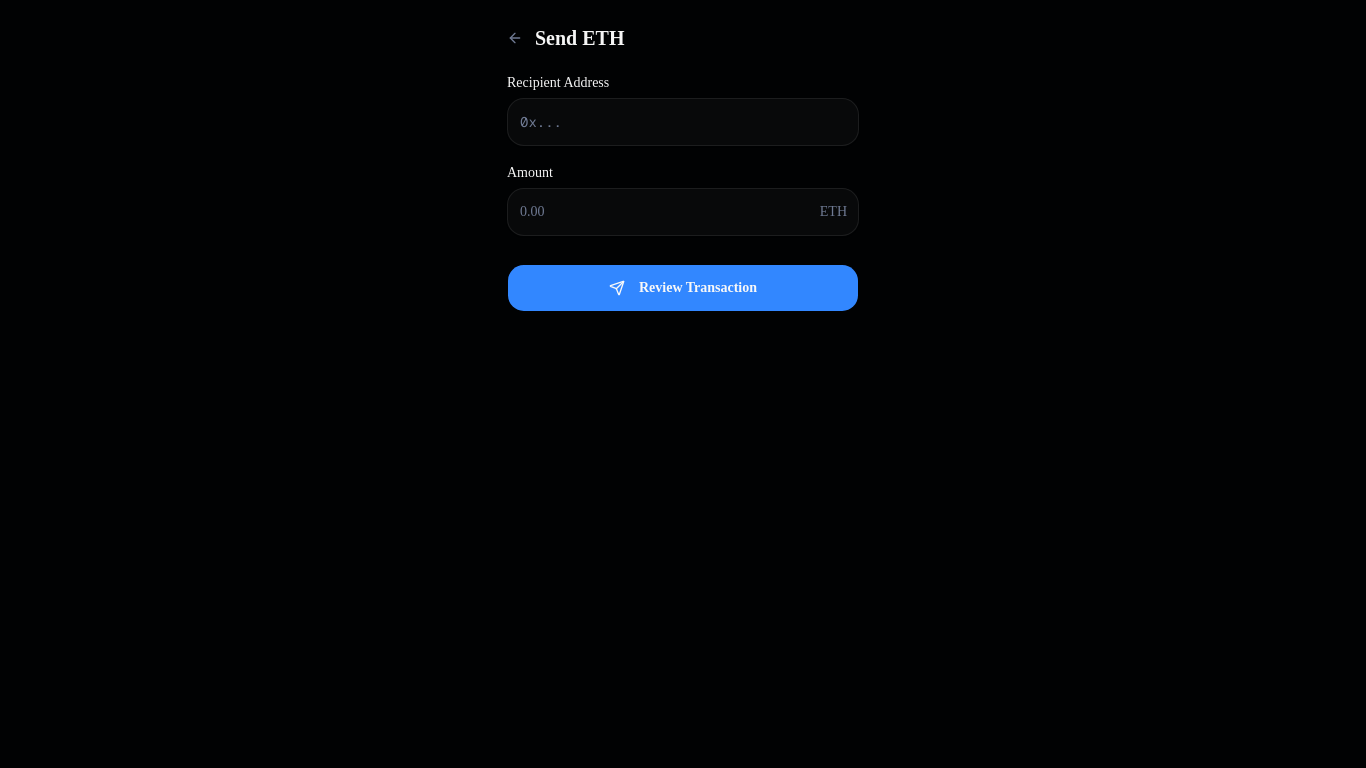
it: SendPage › opens confirm dialog with valid inputs
Type "0x70997970C51812dc3A010C7d01b50e0d17dc79C8" into the field with placeholder "0x...". click: (683,122)
box: [507,98,859,146]
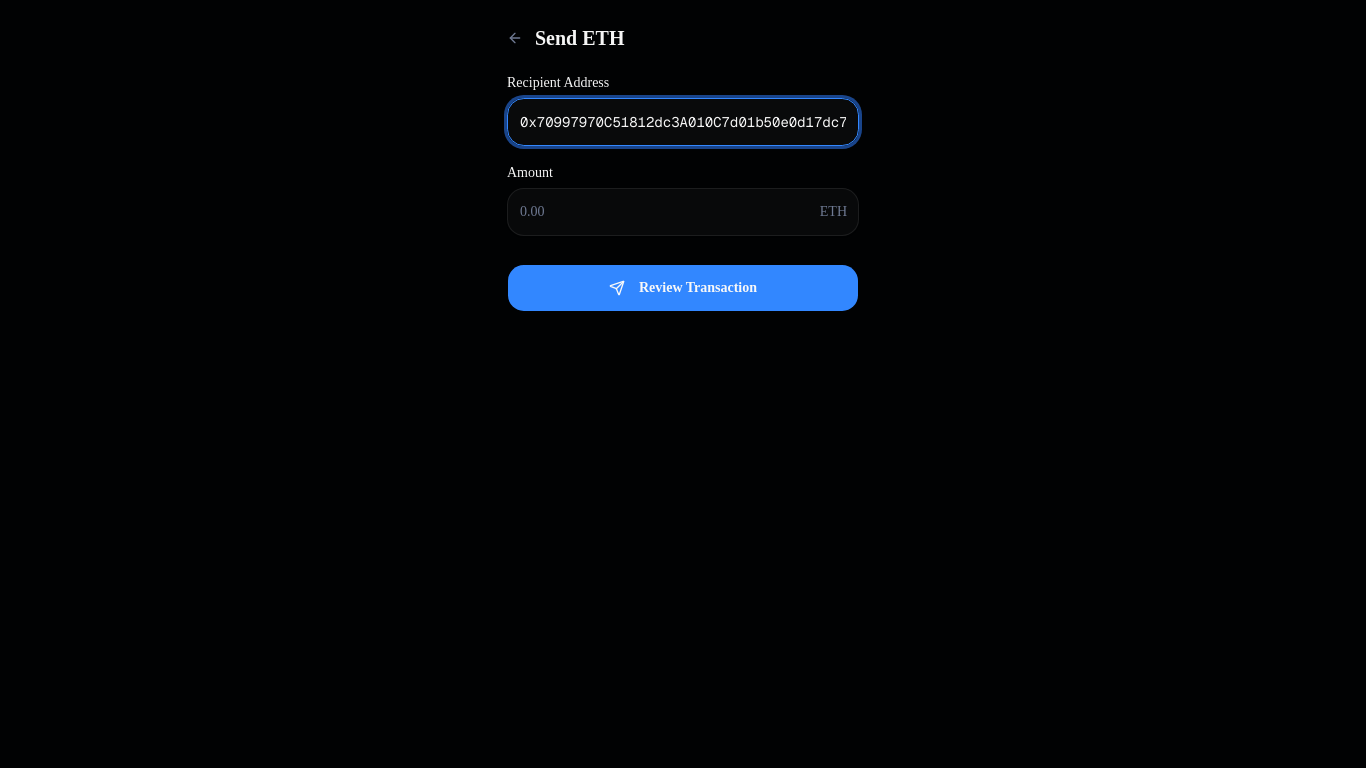
Type "0.01" into the number field with placeholder "0.00". click: (683,212)
box: [507,188,859,236]
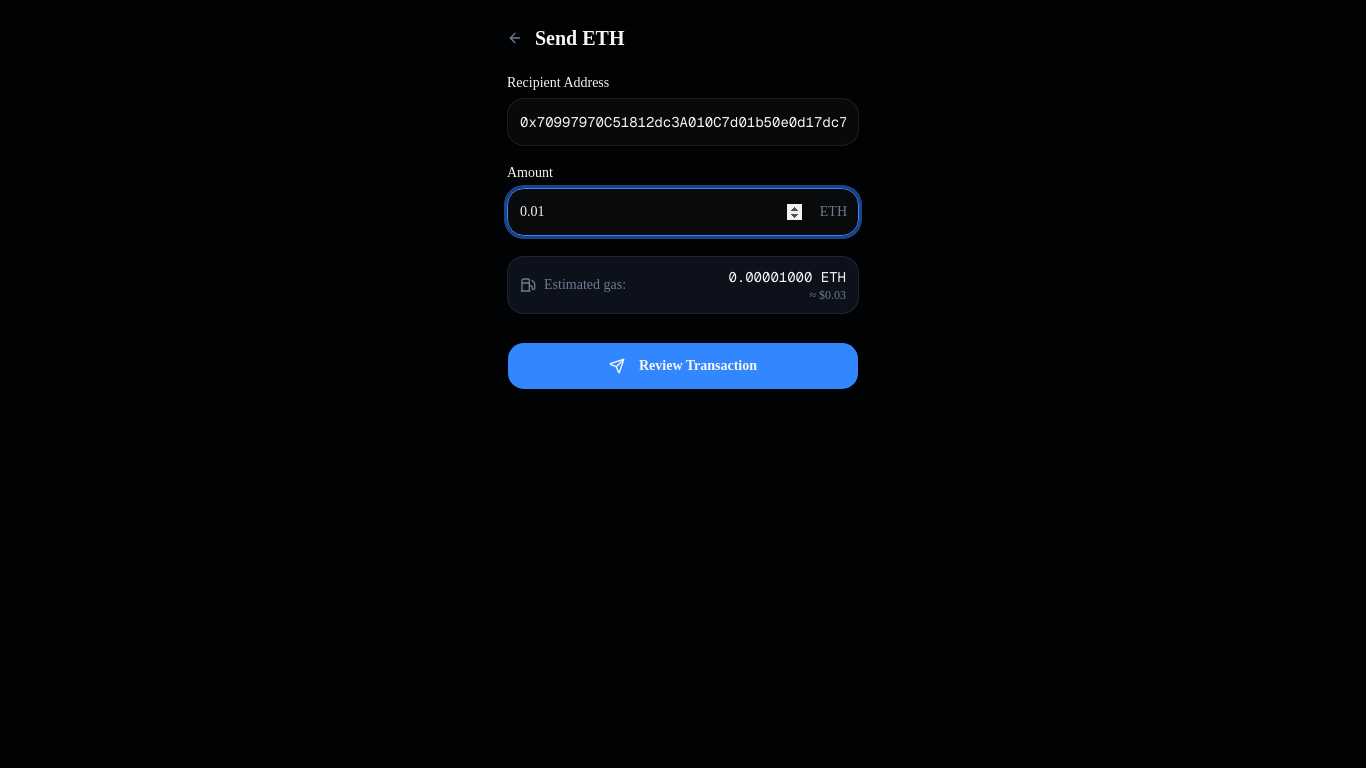
Click the button "Review Transaction". click: (683,366)
box: [507,342,859,390]
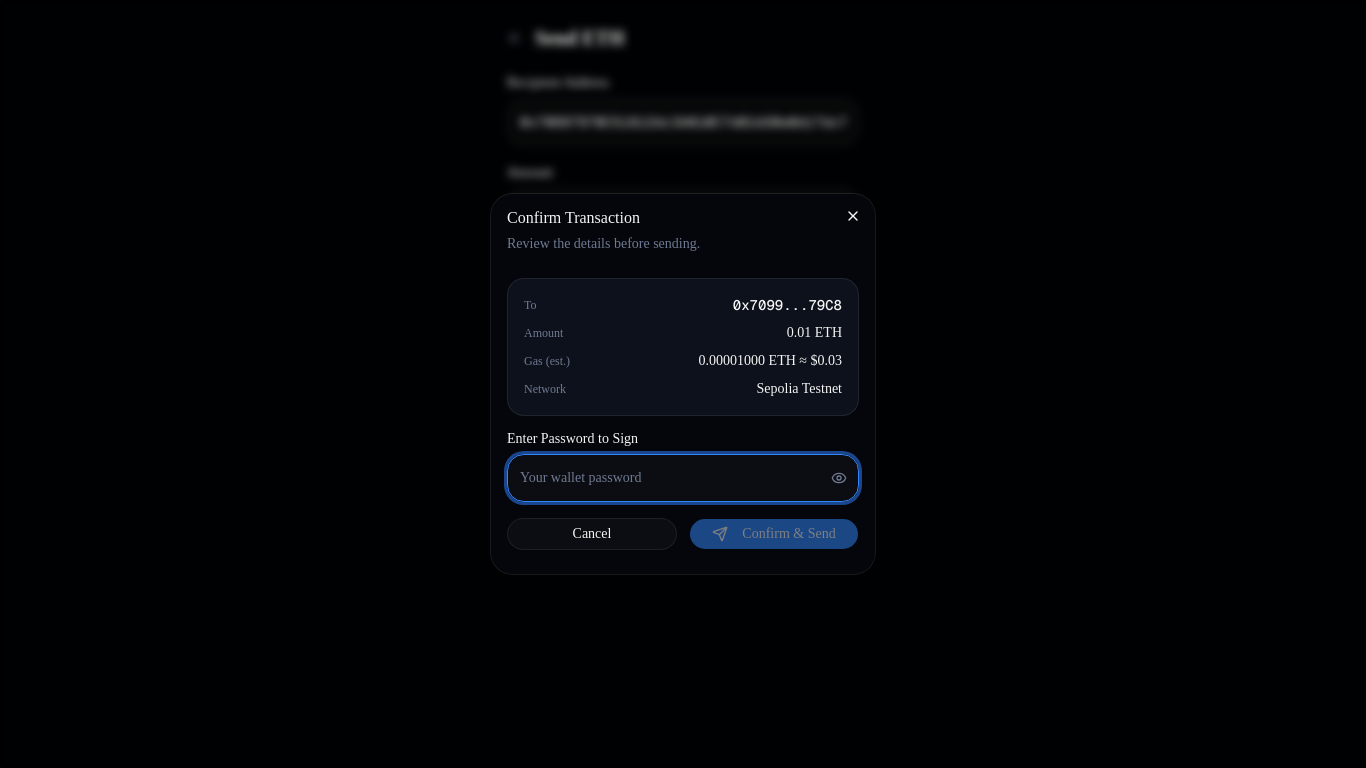
Check: the heading "Confirm Transaction" is shown, box [507,209,640,226]
